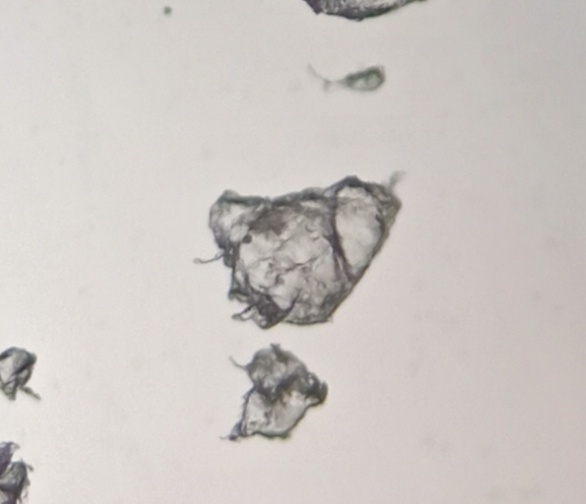microplastic: (190, 173, 414, 334), (224, 342, 333, 448), (303, 57, 393, 99), (1, 347, 46, 404), (1, 438, 34, 504)
